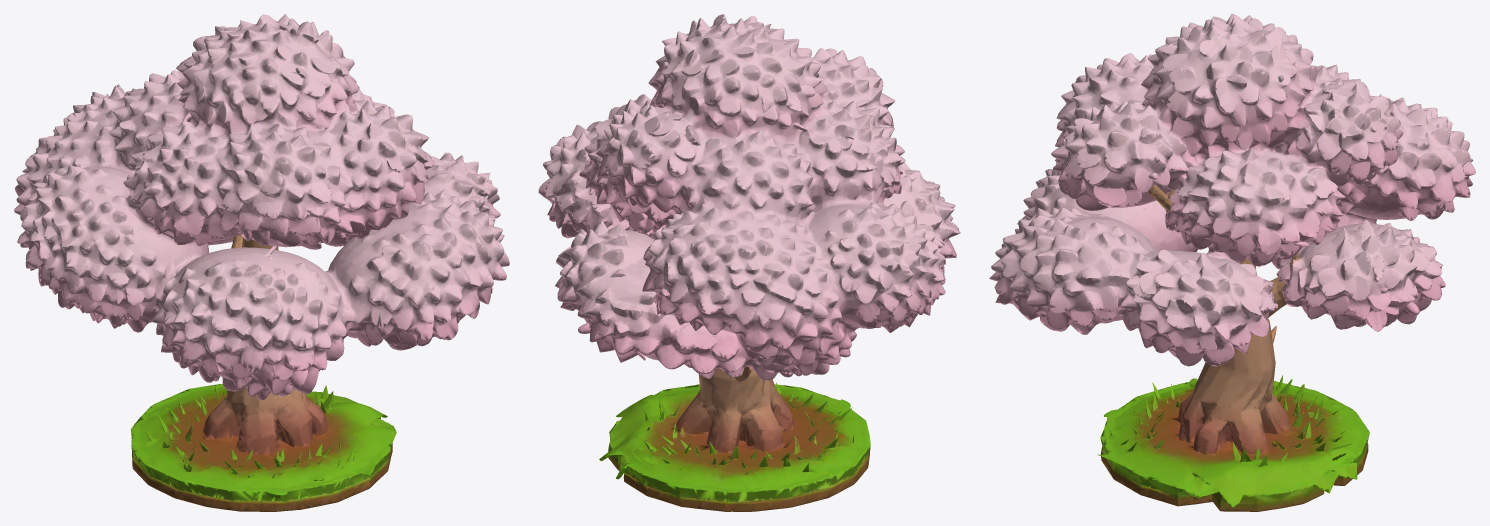
File: prop_tree2.glb
3 renders of one model, left to right at view 1: azimuth 30°, elevation 25°; view 2: azimuth 150°, elevation 25°; view 3: azimuth 270°, elevation 25°, orthographic.
Parts seen in each view (by area): view 1: tripo_node_2d88f883-f8e3-4370-bccc-99b04be49f7f; view 2: tripo_node_2d88f883-f8e3-4370-bccc-99b04be49f7f; view 3: tripo_node_2d88f883-f8e3-4370-bccc-99b04be49f7f.
Boxes of the visible parts, <box> form: tripo_node_2d88f883-f8e3-4370-bccc-99b04be49f7f: <box>14,14,509,511</box>; tripo_node_2d88f883-f8e3-4370-bccc-99b04be49f7f: <box>538,14,960,511</box>; tripo_node_2d88f883-f8e3-4370-bccc-99b04be49f7f: <box>989,14,1475,511</box>.
Bounding box in the file's own units: 0.9861 × 0.9665 × 0.9747.
Materials: 1 (1 with a texture image).
